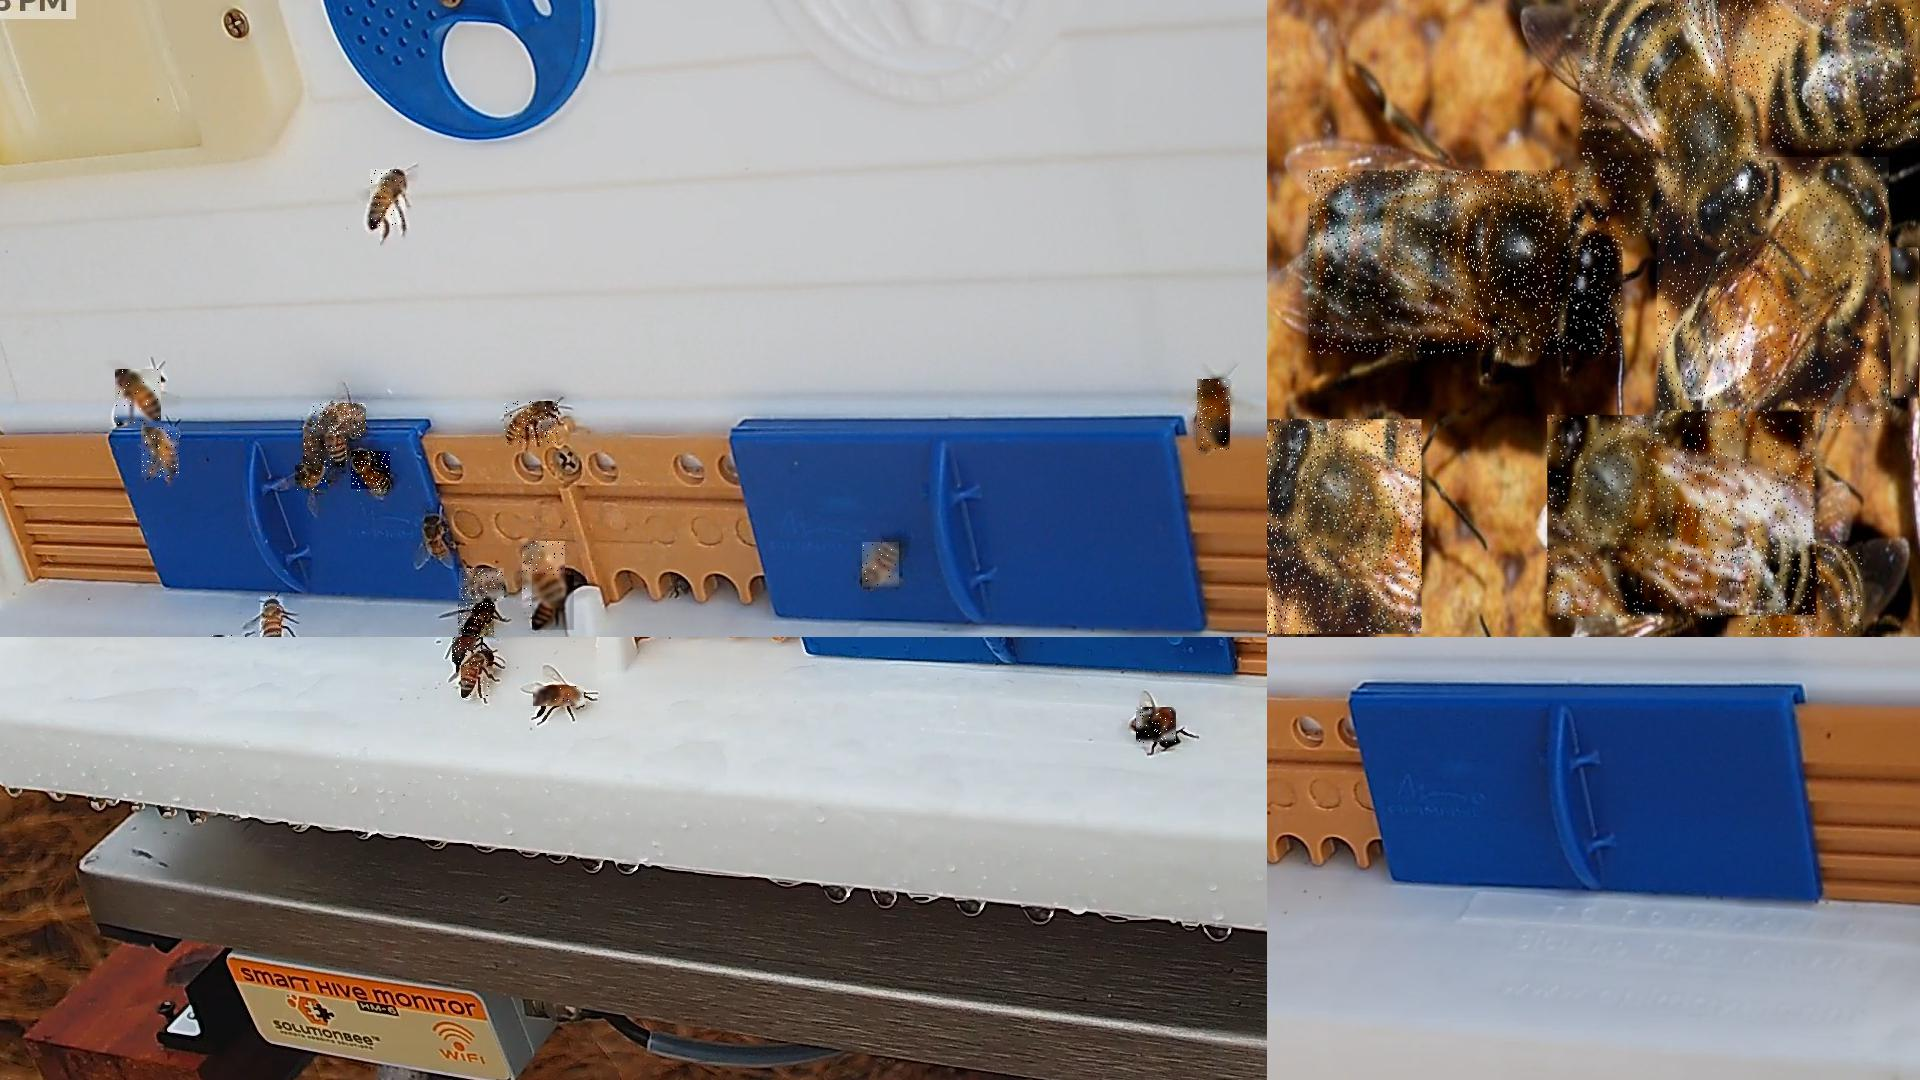bee: (1658, 158, 1890, 430), (1548, 415, 1818, 622), (1581, 0, 1767, 237), (1267, 419, 1423, 636), (1768, 0, 1919, 150), (1727, 542, 1865, 636), (1891, 247, 1919, 400), (522, 542, 566, 608), (115, 369, 162, 426), (531, 575, 575, 632), (1197, 380, 1232, 451), (504, 402, 559, 446), (141, 427, 181, 481), (371, 170, 406, 229), (313, 404, 367, 438), (862, 543, 901, 589), (351, 452, 392, 493), (462, 650, 493, 699), (459, 568, 505, 601), (1137, 708, 1178, 745), (458, 603, 496, 636), (533, 686, 585, 707), (260, 596, 285, 636), (324, 426, 348, 467), (295, 465, 330, 493), (305, 427, 324, 472), (452, 637, 477, 665)
drone: (1308, 171, 1623, 356)
